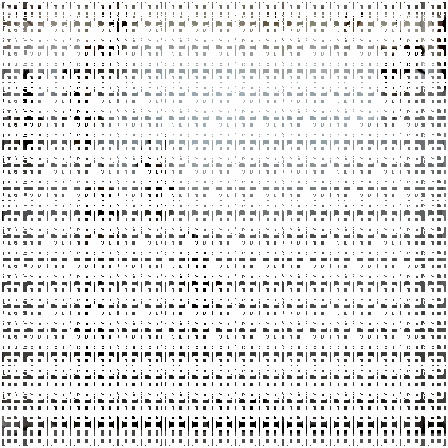bee: (358, 18, 434, 119), (167, 217, 233, 327), (67, 269, 126, 385), (50, 51, 110, 155), (2, 63, 56, 170), (63, 161, 127, 250), (130, 139, 188, 228), (75, 23, 139, 91)
